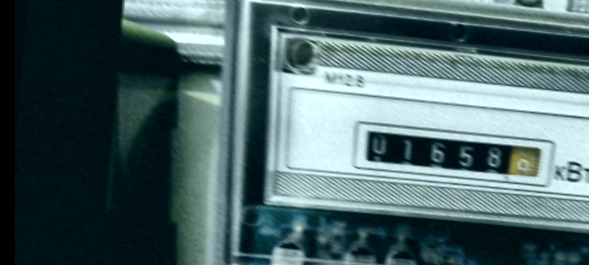0: (371, 131, 389, 154)
1: (400, 135, 416, 160)
5: (458, 142, 476, 167)
6: (429, 138, 449, 164)
8: (486, 144, 505, 167)
9: (514, 154, 532, 176)
screen: (350, 116, 560, 191)
